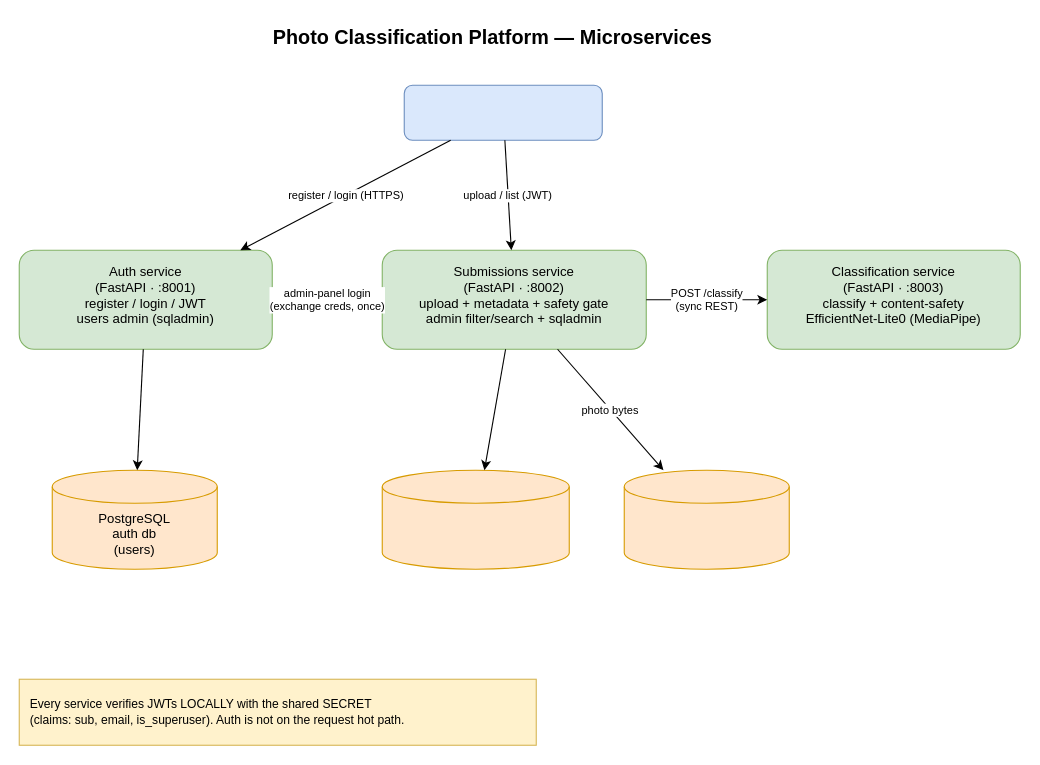
This 1040x765 diagram has some shape labels left out. The centre of each missing label's shape, as x and y in pixels:
"Browser / API client" belongs at point 502,112.
"Photo volume (local disk / PVC) photo bytes" belongs at point 706,519.
"PostgreSQL submissions db (submission + indexes)" belongs at point 475,519.
